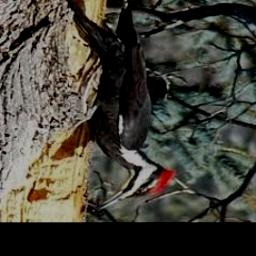Woodpecker: (67, 0, 174, 210)
